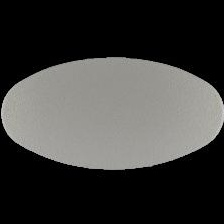57664-327: (0, 0, 224, 224)
